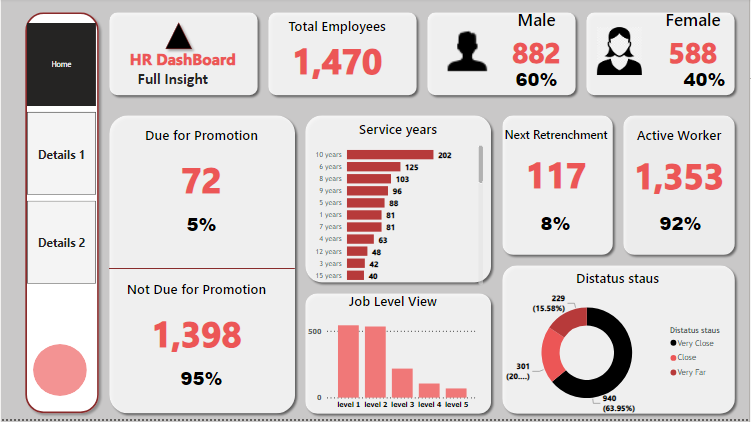

What the dashboard file says about the page in this screenshot:
{"tool":"powerbi","page":{"name":"Home","canvas":[1280,720],"ordinal":0},"visuals":[{"type":"shape","box":[32,16,144,704],"z":0},{"type":"shape","box":[448,16,272,160],"z":1000},{"type":"shape","box":[720,16,272,160],"z":2000},{"type":"shape","box":[992,16,272,160],"z":3000},{"type":"shape","box":[176,192,336,528],"z":4000},{"type":"shape","box":[512,192,336,304],"z":5000},{"type":"shape","box":[512,496,336,224],"z":6000},{"type":"shape","box":[848.8,191.7,207.1,256.7],"z":7000},{"type":"shape","box":[1055.8,191.7,208.8,256.7],"z":8000},{"type":"shape","box":[848,448,416,272],"z":9000},{"type":"card","title":"Total Employees","fields":{"Values":["All Measures.Total Emp"]},"box":[480,32,192,112],"z":10000},{"type":"card","title":"Male","fields":{"Values":["All Measures.Male"]},"box":[819.7,15.4,193.4,111.2],"z":11000},{"type":"card","title":"Female","fields":{"Values":["All Measures.Female"]},"box":[1088.3,15.4,191.7,111.2],"z":12000},{"type":"card","title":"Male","fields":{"Values":["All Measures.Male %"]},"box":[855.6,95.8,121.5,87.3],"z":13000},{"type":"card","title":"Male","fields":{"Values":["All Measures.Female %"]},"box":[1143.1,95.8,121.5,87.3],"z":14000},{"type":"image","box":[744.4,35.9,104.4,102.7],"z":15000},{"type":"image","box":[1014.8,42.8,87.3,95.8],"z":16000},{"type":"card","title":"Due for Promotion","fields":{"Values":["All Measures.Due for Promotion"]},"box":[215.6,219,255,148.9],"z":17000},{"type":"card","title":"Male","fields":{"Values":["All Measures.DuePromotion %"]},"box":[282.4,344,121.5,87.3],"z":18000},{"type":"shape","box":[184.8,429.5,318.3,66.7],"z":19000},{"type":"card","title":"Not Due for Promotion","fields":{"Values":["All Measures.Not Due for Promotion"]},"box":[207.1,482.6,255,148.9],"z":20000},{"type":"card","title":"Male","fields":{"Values":["All Measures.NotDuePromotion %"]},"box":[282.4,607.5,121.5,87.3],"z":21000},{"type":"barChart","title":"Service years","fields":{"Category":["HR Analytics Data.Service years"],"Y":["All Measures.Total Emp"]},"box":[528.8,208.8,301.2,287.5],"z":22000},{"type":"columnChart","title":"Job Level View","fields":{"Category":["HR Analytics Data.Job Level"],"Y":["All Measures.Total Emp"]},"box":[520.2,503.1,301.2,208.8],"z":23000},{"type":"card","title":"Next Retrenchment","fields":{"Values":["All Measures.Retrenchment"]},"box":[826.5,219,246.4,133.5],"z":24000},{"type":"card","title":"Male","fields":{"Values":["All Measures.Retrenchment%"]},"box":[888.1,342.2,121.5,87.3],"z":25000},{"type":"card","title":"Active Worker","fields":{"Values":["All Measures.Active"]},"box":[1066.1,219,188.2,133.5],"z":26000},{"type":"card","title":"Male","fields":{"Values":["All Measures.Active%"]},"box":[1102,342.2,121.5,87.3],"z":27000},{"type":"donutChart","title":"Distatus staus","fields":{"Category":["HR Analytics Data.Distatus staus"],"Y":["All Measures.Total Emp"]},"box":[855.6,463.7,398.7,256.7],"z":28000},{"type":"shape","box":[54.8,592.1,92.4,89],"z":29000},{"type":"pageNavigator","box":[44.5,42.8,118.1,448.3],"z":30000},{"type":"shape","box":[176,16,272,160],"z":31000},{"type":"shape","box":[272,32,64,64],"z":32000},{"type":"textbox","box":[208,80,208,80],"z":33000}]}

Visuals, with their boxes in screenshot pixels (x1, y1, x2, y2), scaled from the page's 1280x720 canvas onto the 751x422 screenshot:
shape: bbox=[19, 9, 103, 421]
shape: bbox=[263, 9, 422, 103]
shape: bbox=[422, 9, 582, 103]
shape: bbox=[582, 9, 742, 103]
shape: bbox=[103, 113, 300, 421]
shape: bbox=[300, 113, 498, 291]
shape: bbox=[300, 291, 498, 421]
shape: bbox=[498, 112, 620, 263]
shape: bbox=[619, 112, 742, 263]
shape: bbox=[498, 263, 742, 421]
"Total Employees" card: bbox=[282, 19, 394, 84]
"Male" card: bbox=[481, 9, 594, 74]
"Female" card: bbox=[639, 9, 750, 74]
"Male" card: bbox=[502, 56, 573, 107]
"Male" card: bbox=[671, 56, 742, 107]
image: bbox=[437, 21, 498, 81]
image: bbox=[595, 25, 647, 81]
"Due for Promotion" card: bbox=[126, 128, 276, 216]
"Male" card: bbox=[166, 202, 237, 253]
shape: bbox=[108, 252, 295, 291]
"Not Due for Promotion" card: bbox=[122, 283, 271, 370]
"Male" card: bbox=[166, 356, 237, 407]
"Service years" barChart: bbox=[310, 122, 487, 291]
"Job Level View" columnChart: bbox=[305, 295, 482, 417]
"Next Retrenchment" card: bbox=[485, 128, 629, 207]
"Male" card: bbox=[521, 201, 592, 252]
"Active Worker" card: bbox=[626, 128, 736, 207]
"Male" card: bbox=[647, 201, 718, 252]
"Distatus staus" donutChart: bbox=[502, 272, 736, 421]
shape: bbox=[32, 347, 86, 399]
pageNavigator: bbox=[26, 25, 95, 288]
shape: bbox=[103, 9, 263, 103]
shape: bbox=[160, 19, 197, 56]
textbox: bbox=[122, 47, 244, 94]
